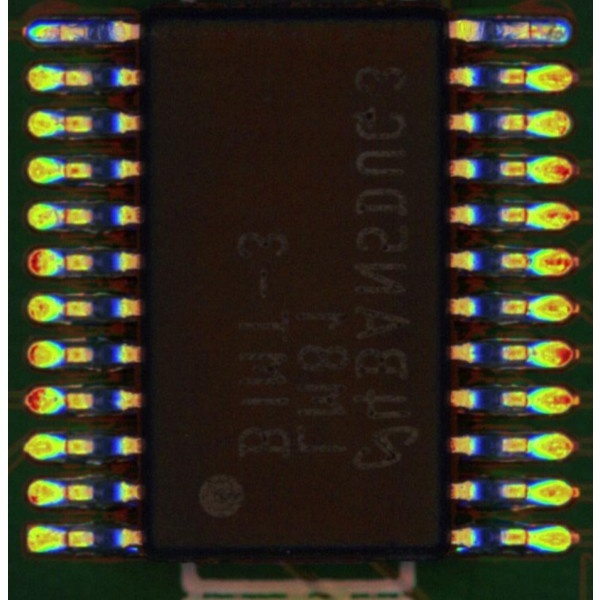Bad_podu: (50, 26, 69, 39), (522, 24, 540, 37)
